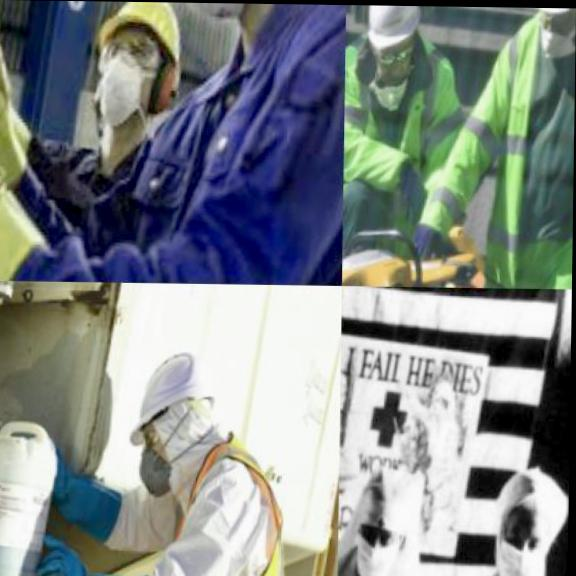safety_vest: (440, 8, 576, 288), (125, 429, 331, 576), (343, 40, 465, 244)
